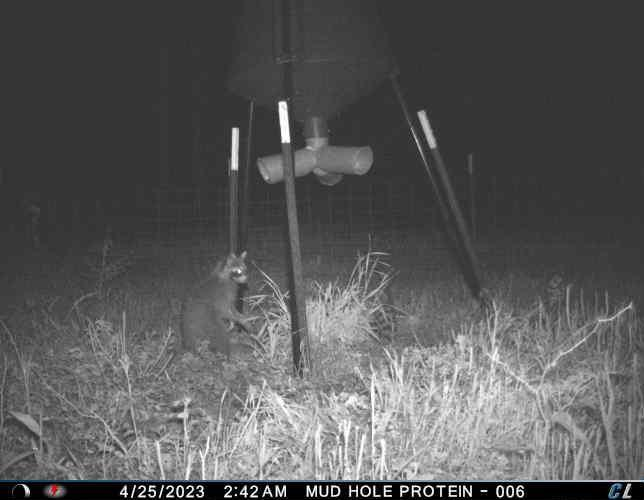Raccoon: (179, 246, 256, 359)
